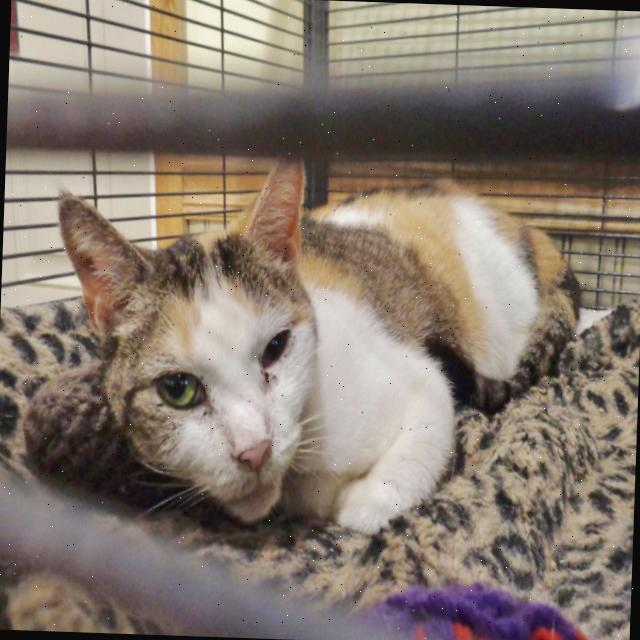calico_cat: (42, 132, 337, 538)
